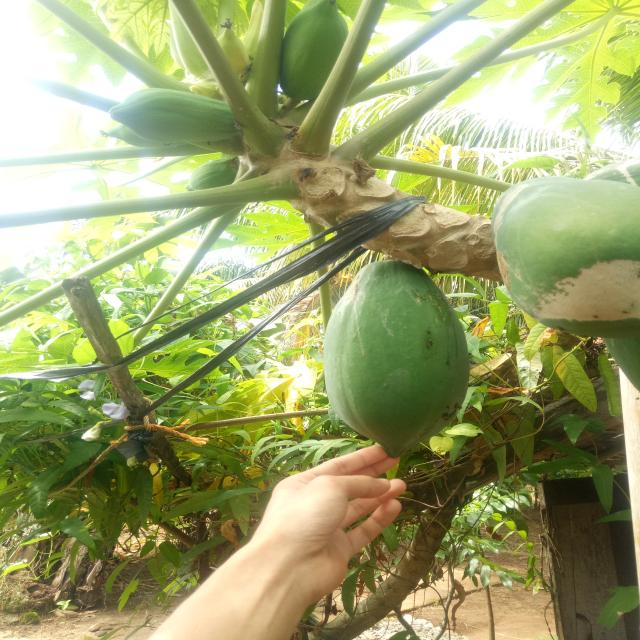Pepaya unrippen: (323, 260, 466, 452), (483, 182, 640, 332)
